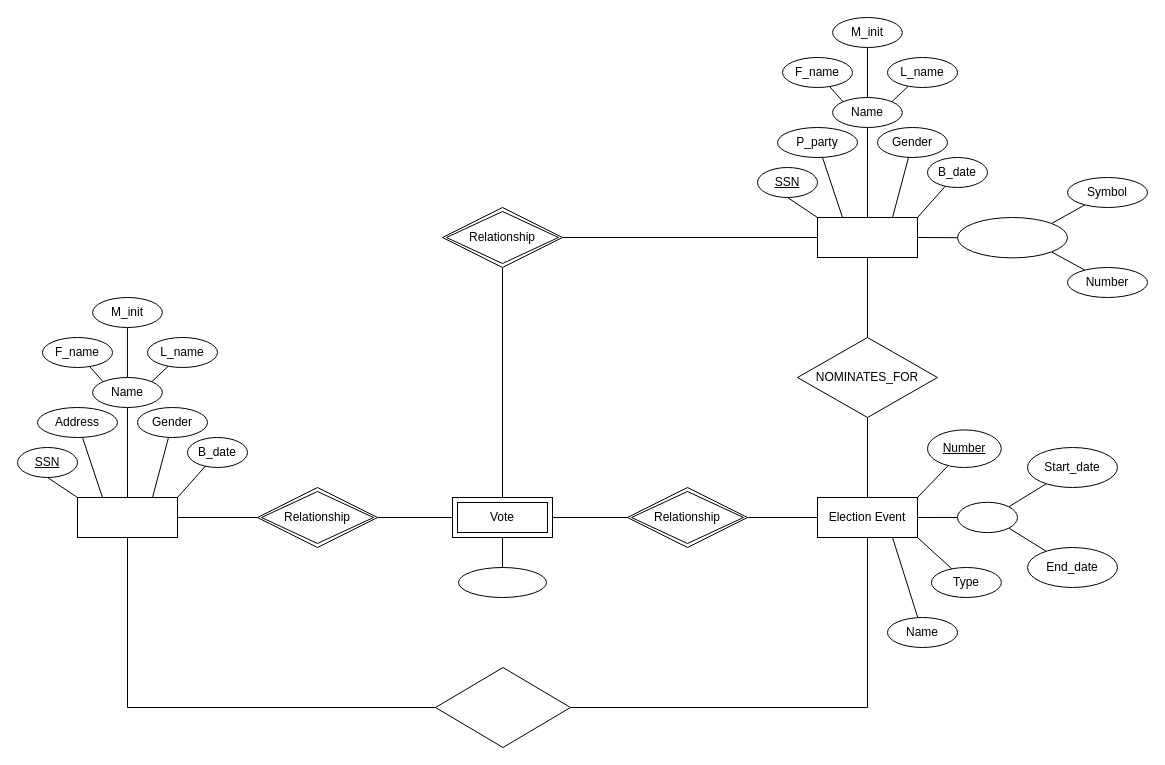
Some shapes in this 1165 by 765 pixel diagram are drawn without their labels. The shapes that lost their labels are listed below. From the top down, each one's centre as x and y in pixels, then its label:
the point at 867,237: Candidate
the point at 1012,237: Campaign _info
the point at 127,517: Voter
the point at 987,517: Date
the point at 502,582: Timestamp
the point at 502,707: REGISTERS_FOR
